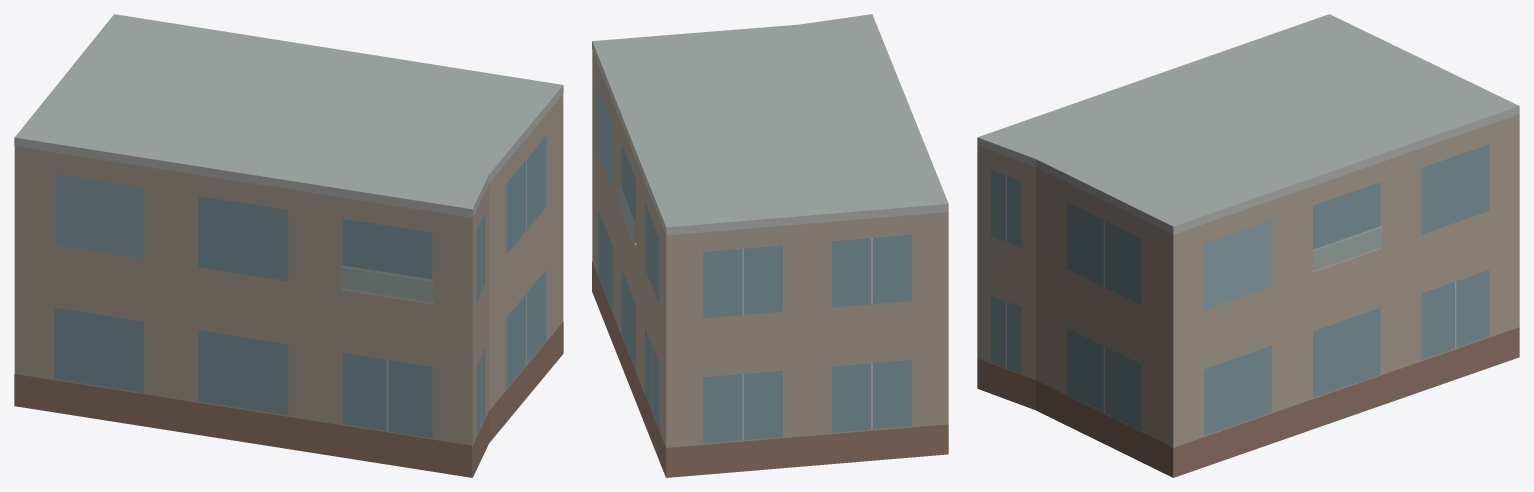
Rendered from survey-upis-32516495.glb.
The picture shows the model from 3 angles, left to right: view 1: azimuth 30°, elevation 25°; view 2: azimuth 150°, elevation 25°; view 3: azimuth 270°, elevation 25°; orthographic projection. The views are drawn at different scales.
Visible parts, largest first — view 1: survey-upis-32516495.tmp; view 2: survey-upis-32516495.tmp; view 3: survey-upis-32516495.tmp.
Boxes of the visible parts, left/top/right/bottom form: survey-upis-32516495.tmp: left=14, top=14, right=563, bottom=477; survey-upis-32516495.tmp: left=592, top=14, right=948, bottom=477; survey-upis-32516495.tmp: left=977, top=14, right=1519, bottom=477.
Size of the model in its own units: 13.8 by 7.6 by 14.87.
